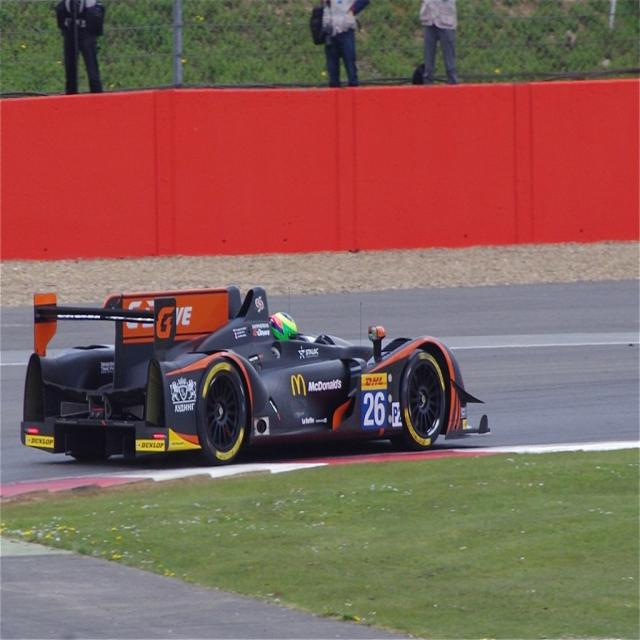car: (20, 289, 492, 462)
